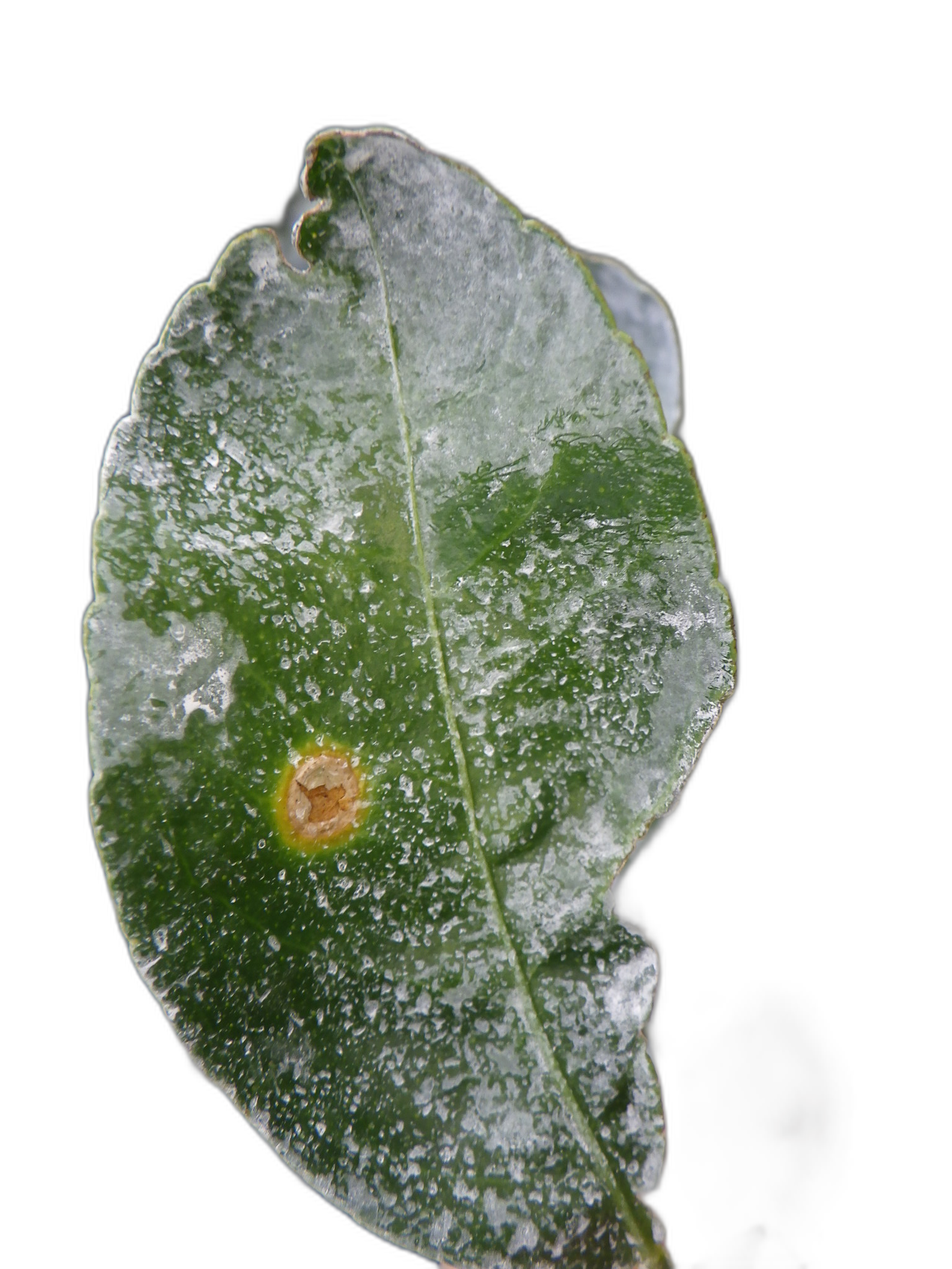Canker: (278, 749, 362, 848)
